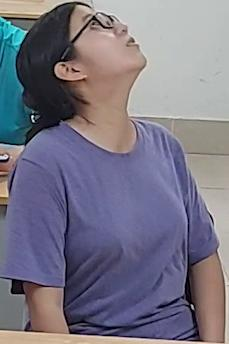Turning_Around: (0, 1, 219, 330)
